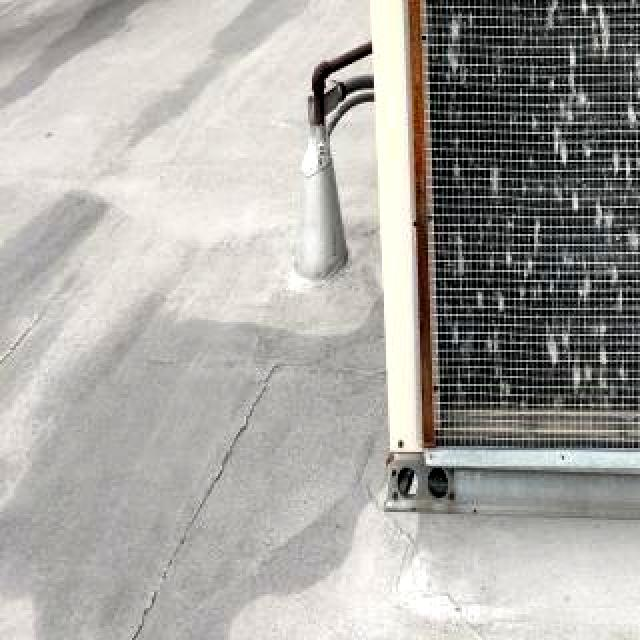SPLIT-SYSTEM: (346, 0, 640, 522)
